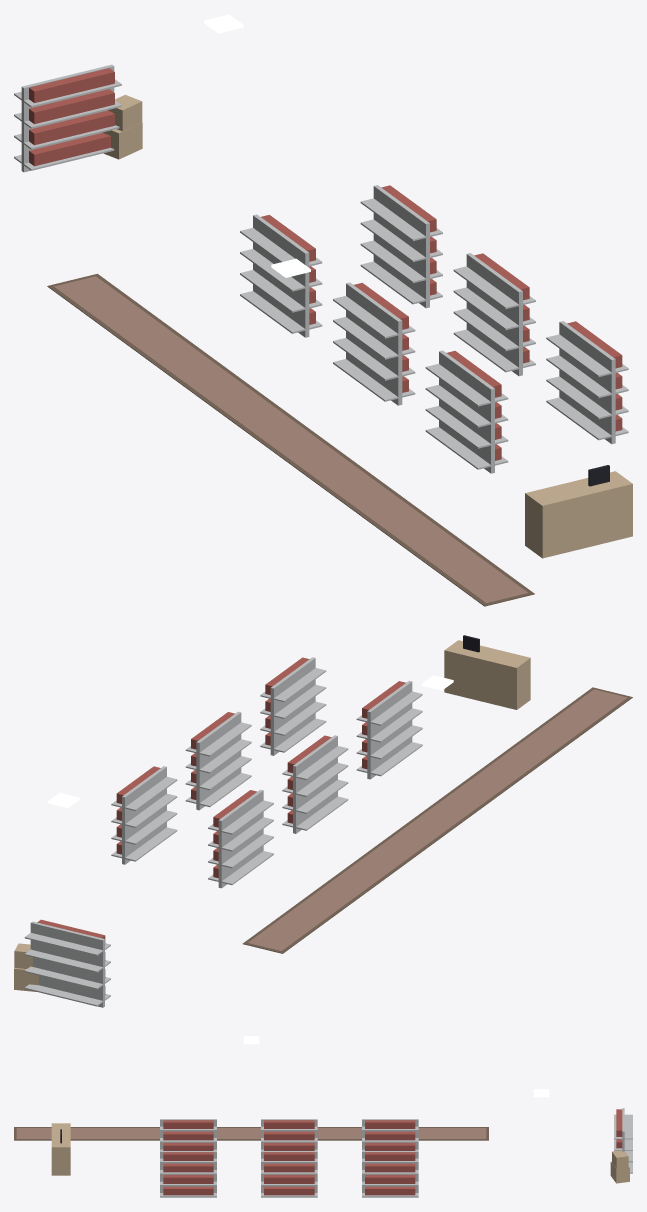
The model's file is fine-s0.glb.
The picture shows the model from 3 angles, top to bottom: view 1: azimuth 30°, elevation 25°; view 2: azimuth 150°, elevation 25°; view 3: azimuth 270°, elevation 25°; orthographic projection. The views are drawn at different scales.
Parts seen in each view (by area): view 1: soft-s0, shelving.000, shop-counter.000, shelf.005, shelf.003, shelf.004, shelf.002, shelf.001, shelf.000, cardboard-box.000; view 2: soft-s0, shelving.000, shop-counter.000, shelf.005, shelf.004, shelf.001, shelf.002, shelf.003, shelf.000, cardboard-box.000; view 3: soft-s0, shelf.003, shelf.004, shelf.005, shelf.000, shelf.001, shelf.002, shop-counter.000, shelving.000, cardboard-box.000.
Boxes of the visible parts, <box> form: soft-s0: <box>47,273,534,606</box>; shelving.000: <box>14,64,121,172</box>; shop-counter.000: <box>525,465,632,558</box>; shelf.005: <box>546,321,628,444</box>; shelf.003: <box>360,185,442,308</box>; shelf.004: <box>453,253,535,376</box>; shelf.002: <box>425,350,508,473</box>; shelf.001: <box>333,282,415,405</box>; shelf.000: <box>240,214,322,337</box>; cardboard-box.000: <box>102,94,142,159</box>; soft-s0: <box>242,687,632,953</box>; shelving.000: <box>24,919,110,1007</box>; shop-counter.000: <box>444,635,530,709</box>; shelf.005: <box>260,657,326,755</box>; shelf.004: <box>185,711,251,810</box>; shelf.001: <box>282,735,348,833</box>; shelf.002: <box>356,681,422,779</box>; shelf.003: <box>111,766,177,864</box>; shelf.000: <box>208,789,273,888</box>; cardboard-box.000: <box>14,943,38,991</box>; soft-s0: <box>14,1127,488,1140</box>; shelf.003: <box>362,1151,418,1197</box>; shelf.004: <box>261,1151,317,1197</box>; shelf.005: <box>160,1151,216,1197</box>; shelf.000: <box>362,1119,418,1150</box>; shelf.001: <box>261,1119,317,1150</box>; shelf.002: <box>160,1119,216,1150</box>; shop-counter.000: <box>51,1123,70,1175</box>; shelving.000: <box>614,1108,632,1173</box>; cardboard-box.000: <box>610,1150,629,1183</box>.
Size of the model in its own units: 5.55 by 3.3 by 19.63.
